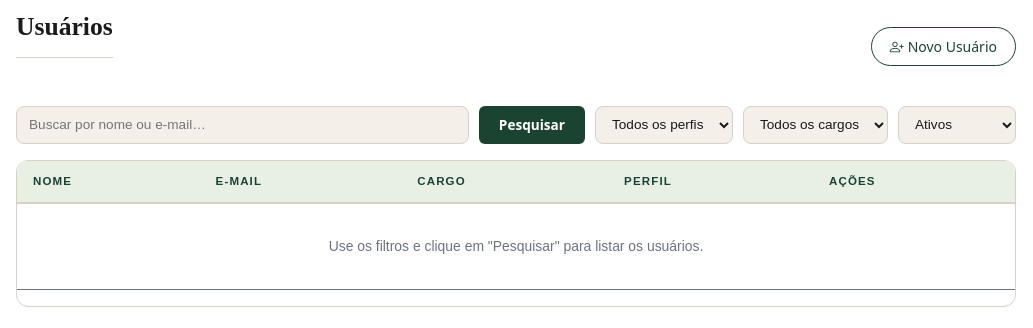
Scenario: UserList — filtros (rascunho → aplica) › filtro de Cargo casa por igualdade
Select "Todos" in the 3rd dropdown at (957, 125), box [898, 106, 1016, 144]
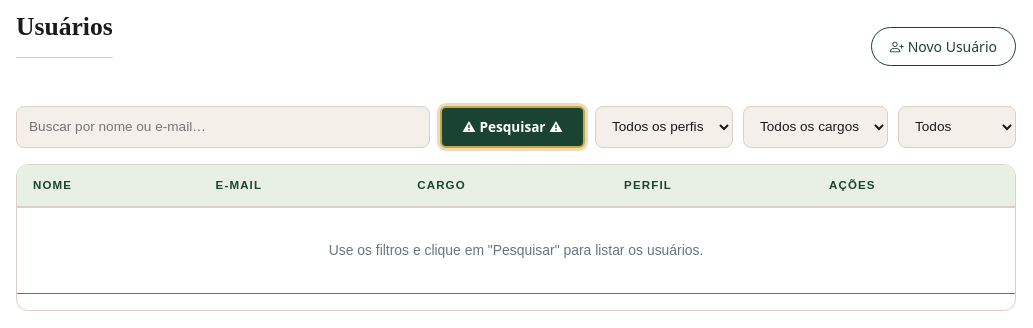
Select "Diretor" in the 2nd dropdown at (816, 127), box [743, 106, 888, 148]
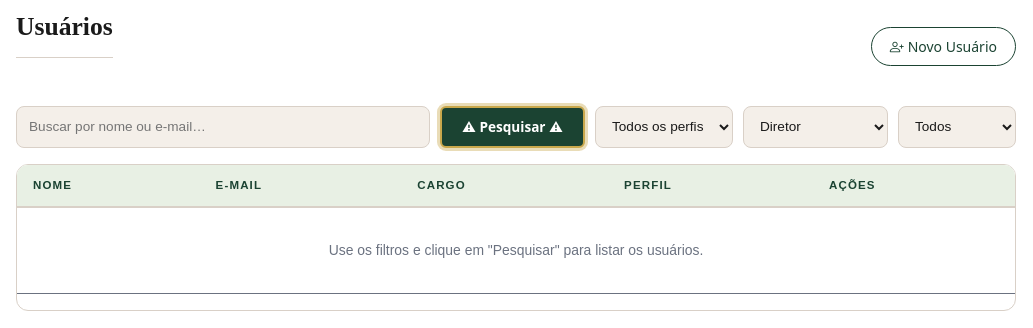
Click the button with class "user-list-btn-filtrar" at (512, 127), box [440, 106, 585, 148]
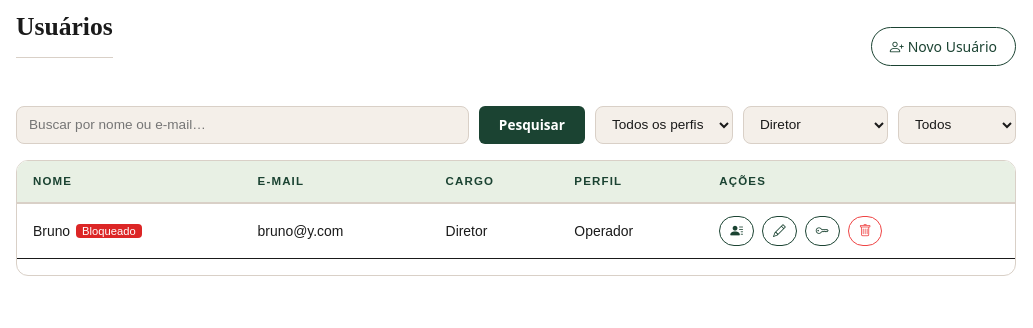
Now the text "bruno@y.com" is shown, box [242, 203, 430, 258]
